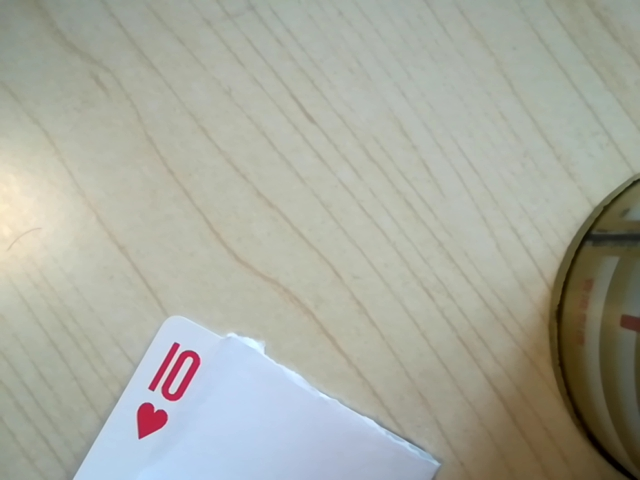hx 10: (127, 337, 211, 442)
